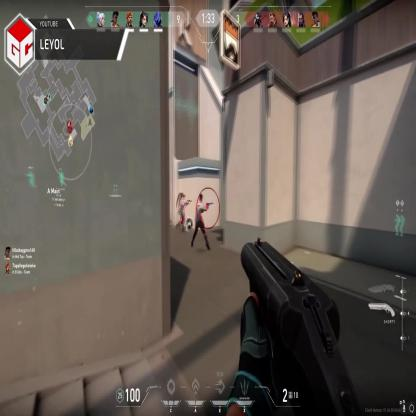enemy: (191, 191, 210, 249), (177, 192, 185, 234)
enemy_head: (199, 194, 202, 202), (182, 194, 185, 199)
